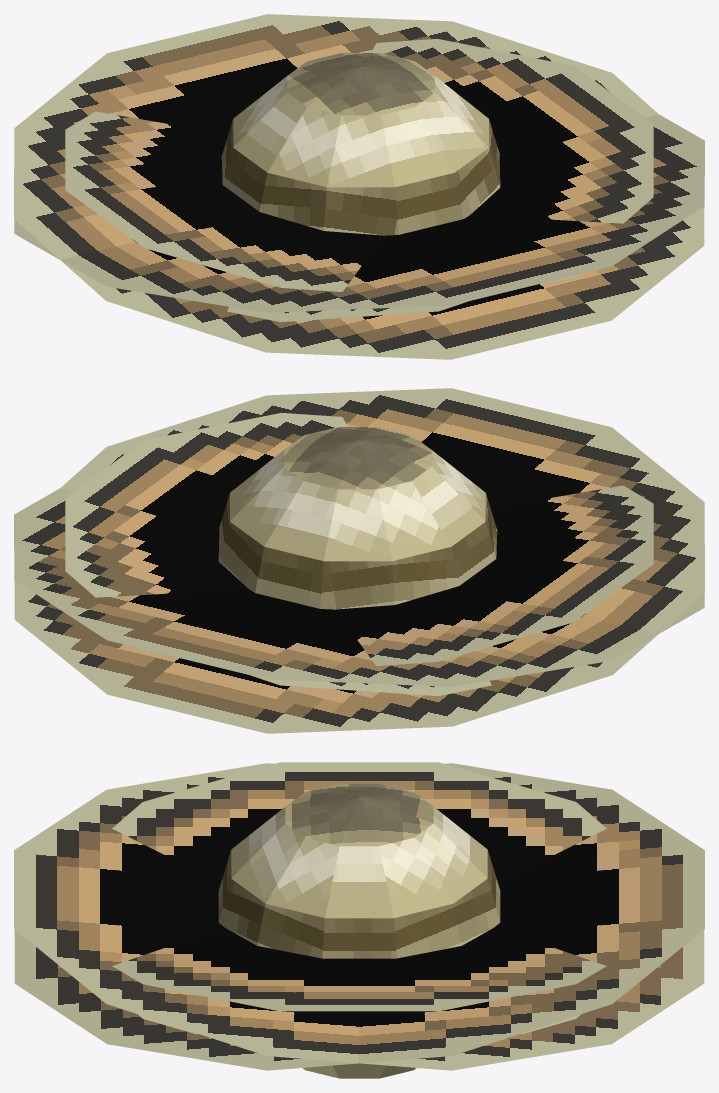
File: saturn.fbx
3 views of the same model, one above another, from view 1: azimuth 30°, elevation 25°; view 2: azimuth 150°, elevation 25°; view 3: azimuth 270°, elevation 25° (orthographic).
Visible parts, largest first — view 1: circle, sphere, circle_3, circle_1, circle_2; view 2: circle_3, sphere, circle, circle_1, circle_2; view 3: circle, circle_3, sphere, circle_2, circle_1.
Part boxes in pixels (left/top/right/bottom): circle: left=14, top=14, right=704, bottom=359; sphere: left=221, top=53, right=500, bottom=235; circle_3: left=14, top=114, right=704, bottom=312; circle_1: left=227, top=39, right=653, bottom=322; circle_2: left=65, top=111, right=582, bottom=291; circle_3: left=14, top=388, right=704, bottom=733; sphere: left=218, top=427, right=497, bottom=609; circle: left=14, top=488, right=704, bottom=686; circle_1: left=65, top=413, right=491, bottom=696; circle_2: left=136, top=485, right=653, bottom=665; circle: left=14, top=763, right=704, bottom=1070; circle_3: left=14, top=763, right=704, bottom=1070; sphere: left=218, top=783, right=500, bottom=1078; circle_2: left=112, top=762, right=606, bottom=1034; circle_1: left=112, top=927, right=606, bottom=1011.
Bounding box in the file's own units: 234 × 100 × 233.
2 materials, 2 textured.
